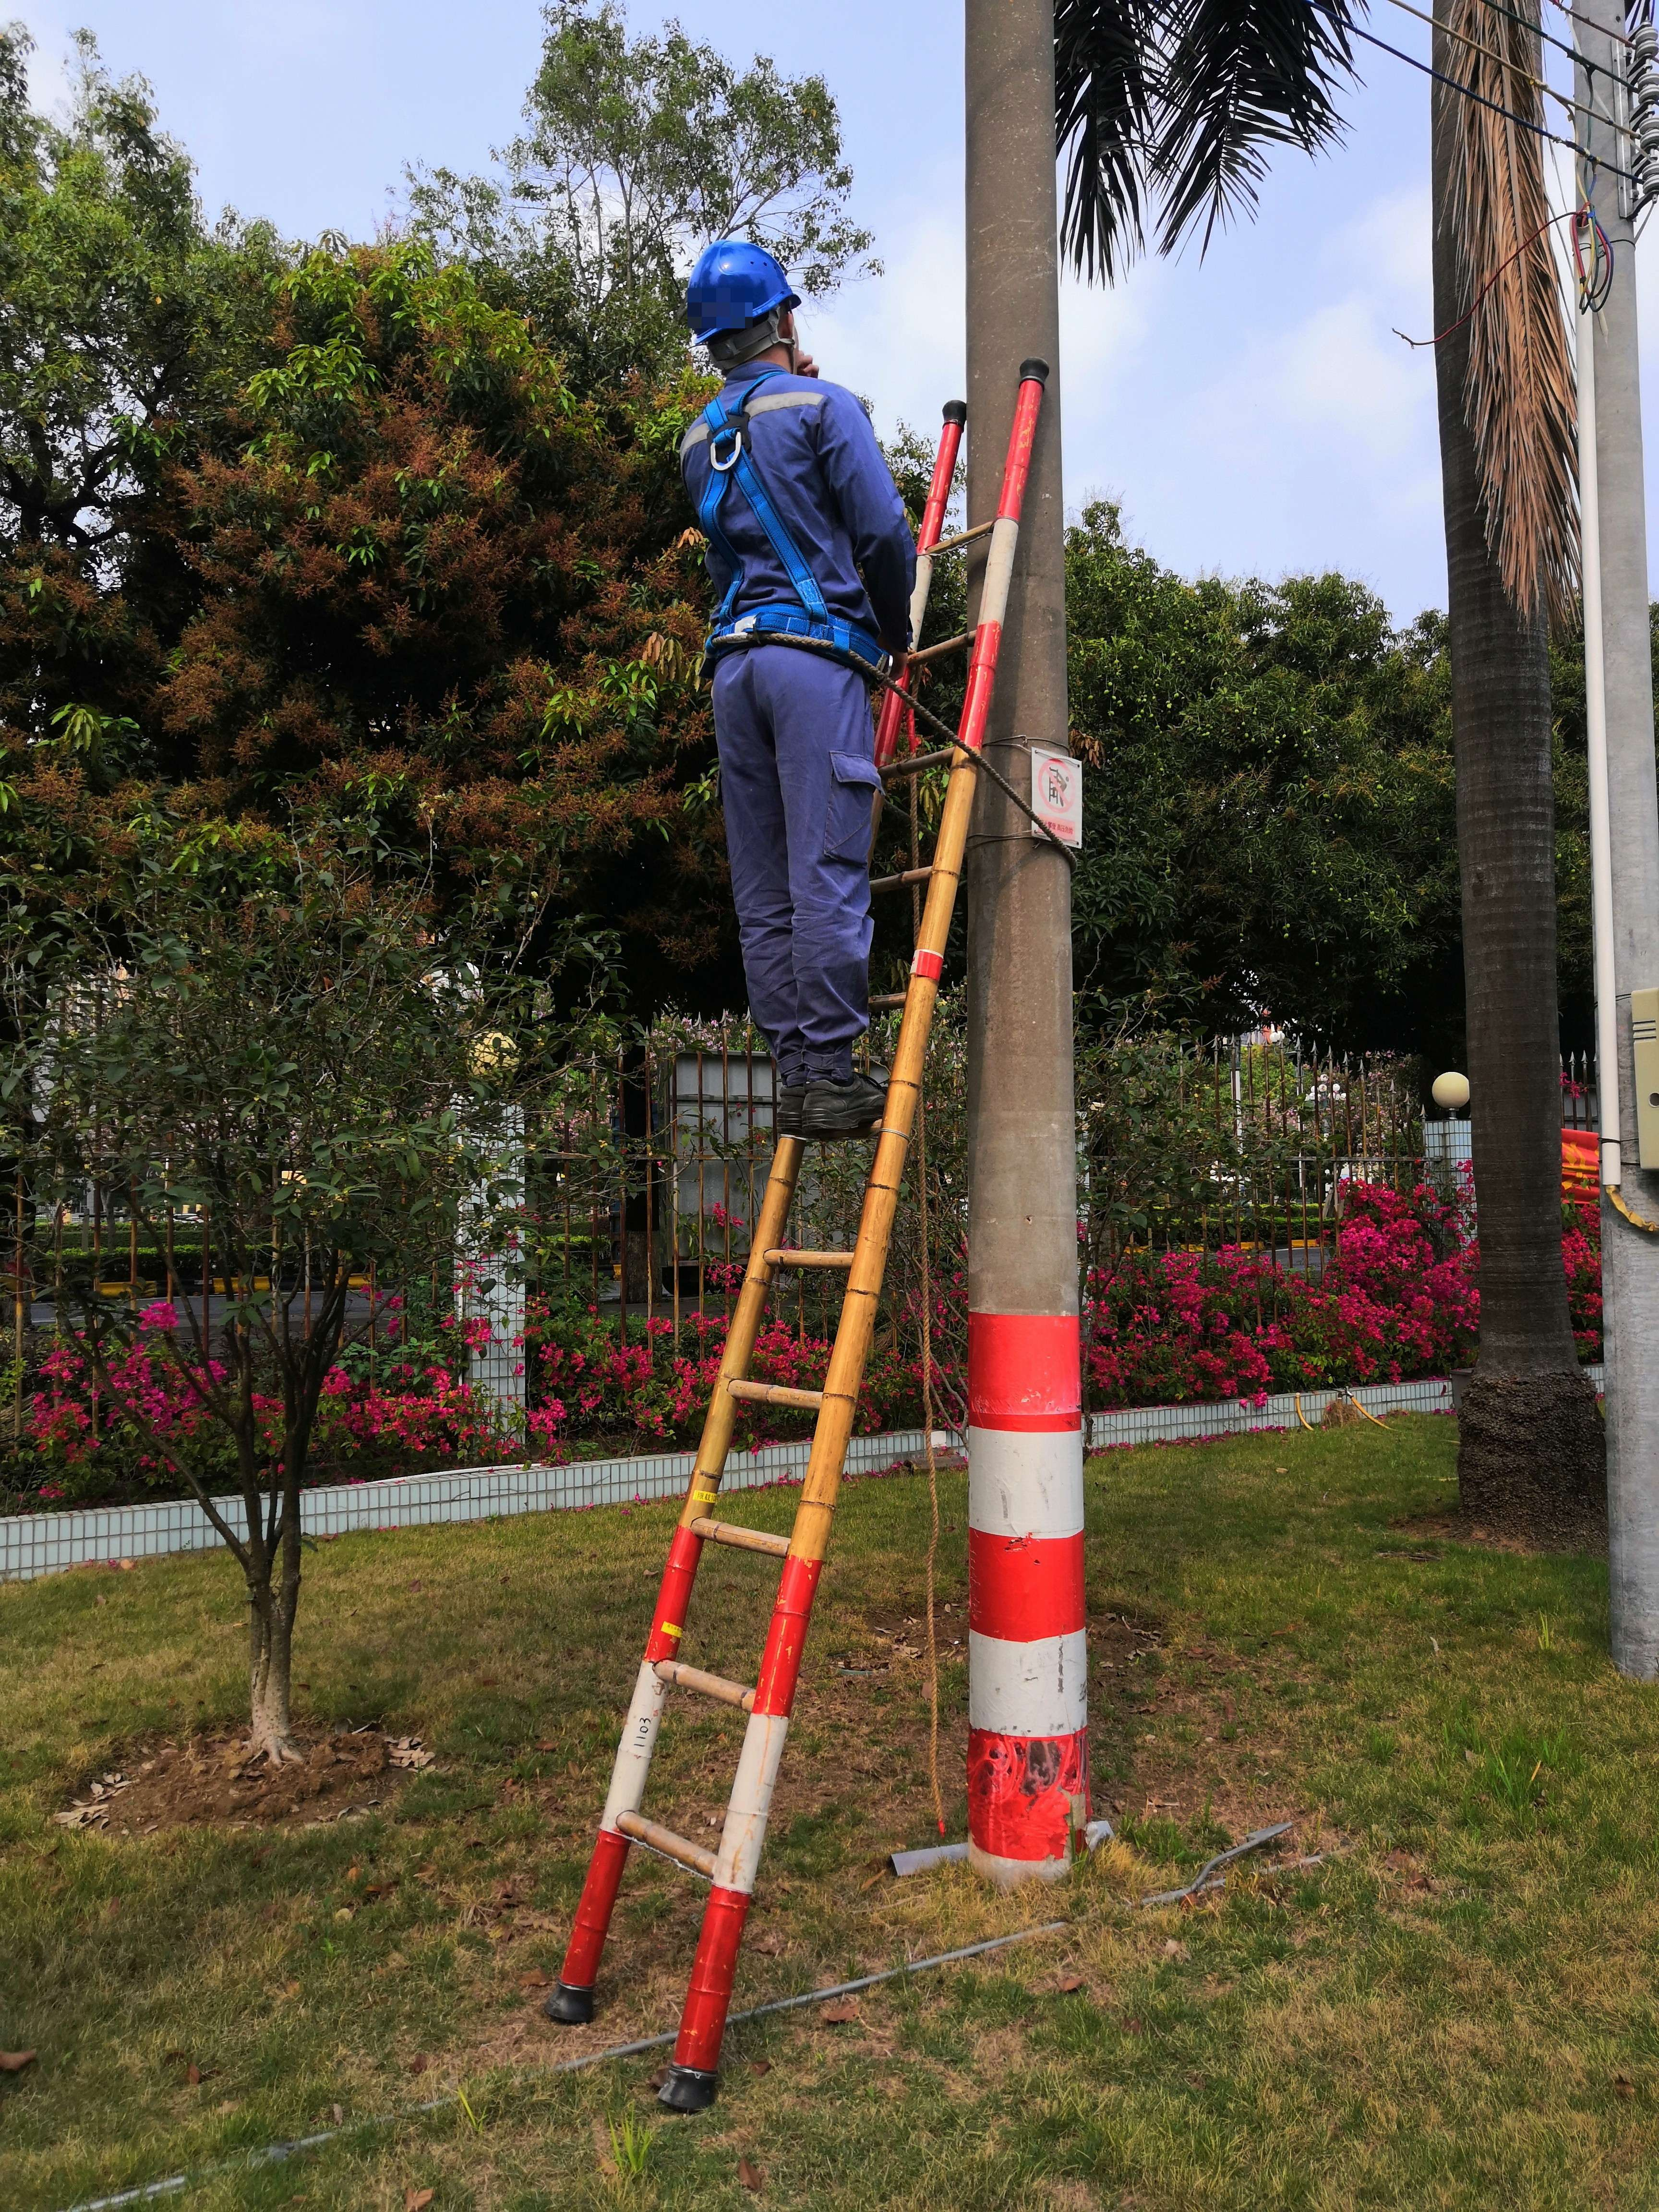downsuit: (718, 664, 873, 1064)
upsuit: (695, 381, 922, 644)
